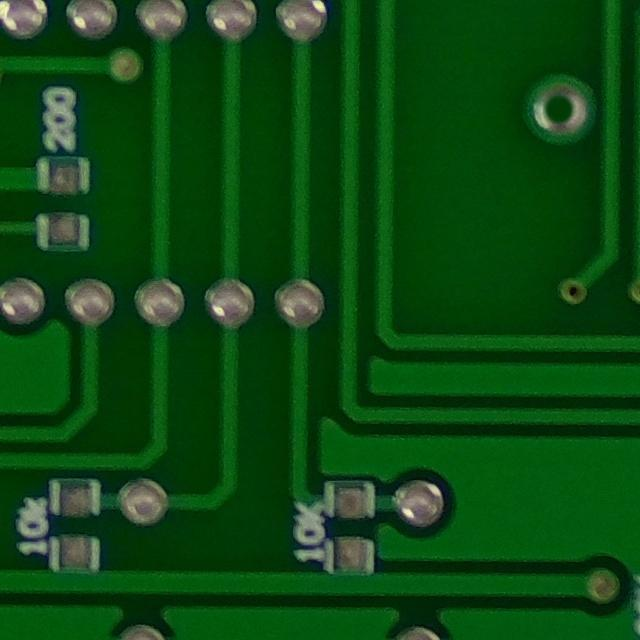missing_hole: (528, 74, 592, 143)
